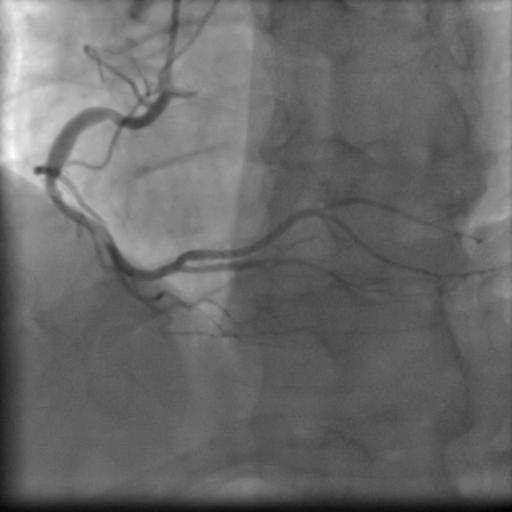Stenosis: (42, 180, 63, 199)
